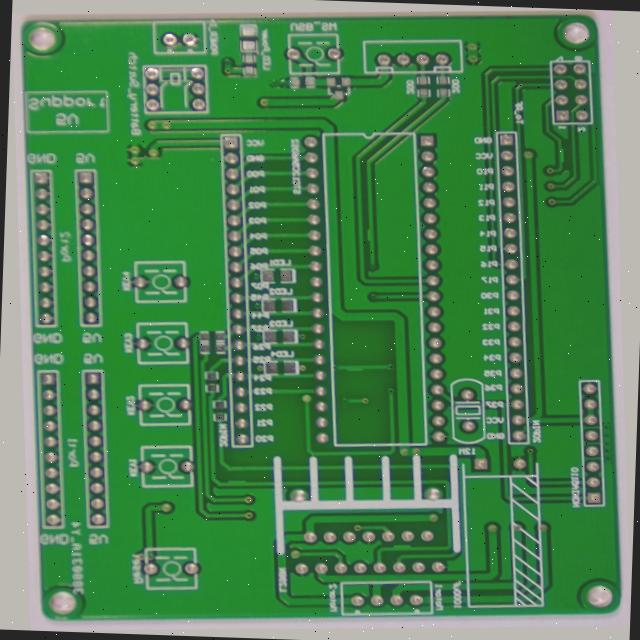spur: (340, 363, 364, 378), (579, 148, 596, 169), (375, 553, 405, 563), (203, 478, 233, 488), (368, 225, 383, 241)
